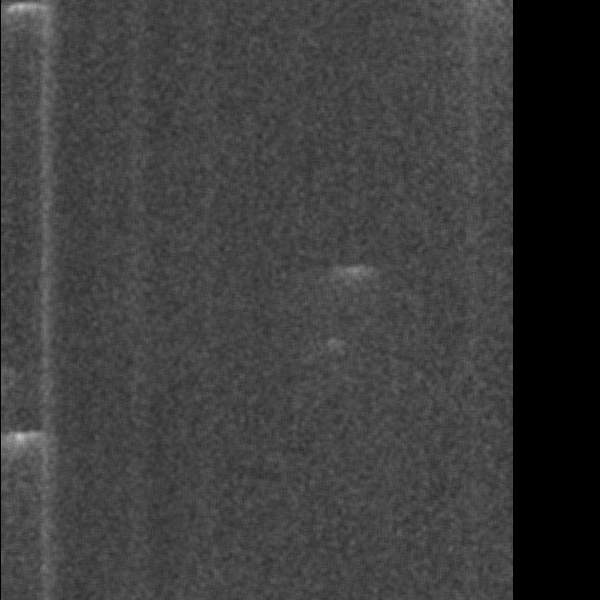spark: (183, 280, 232, 322), (380, 488, 403, 545)
